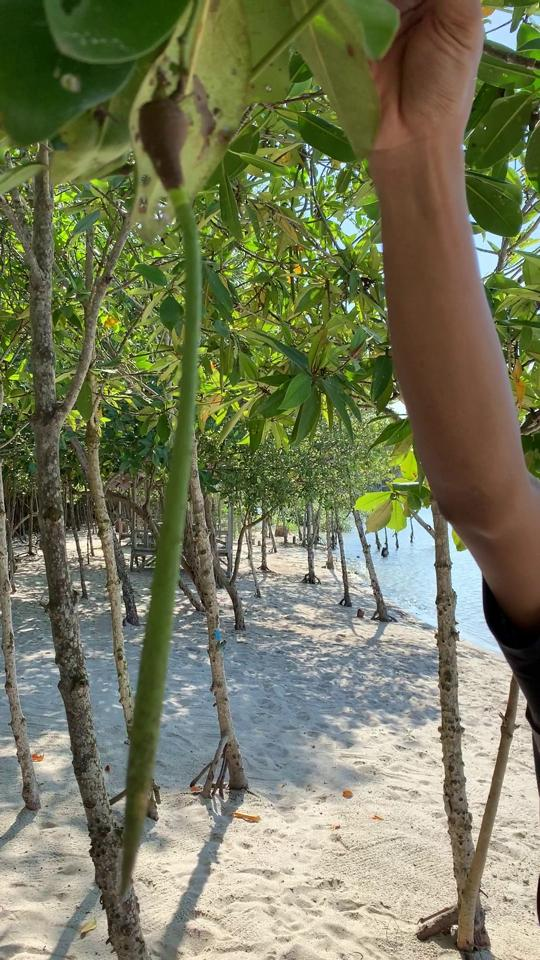setengah matang: (85, 63, 233, 904)
